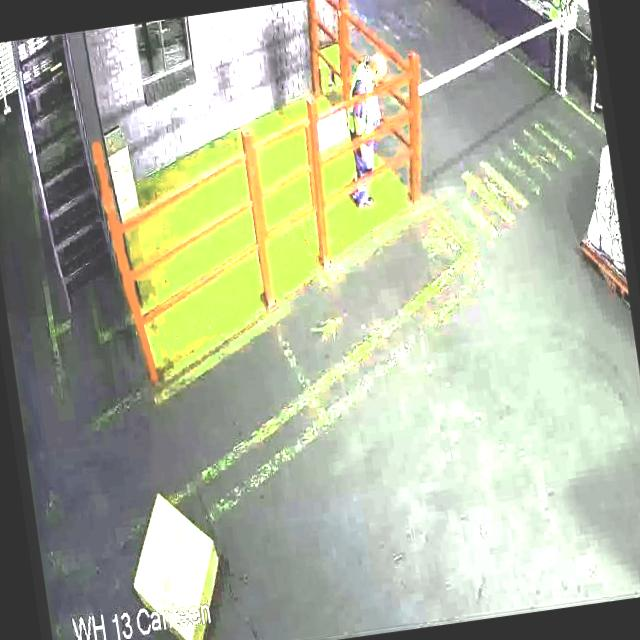Box: (119, 480, 232, 640)
